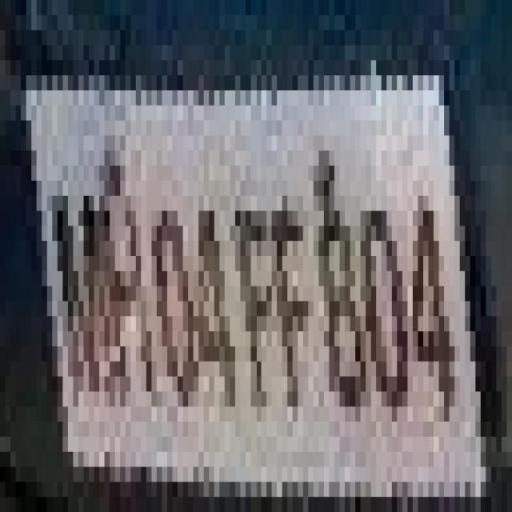number plate: (5, 75, 481, 482)
